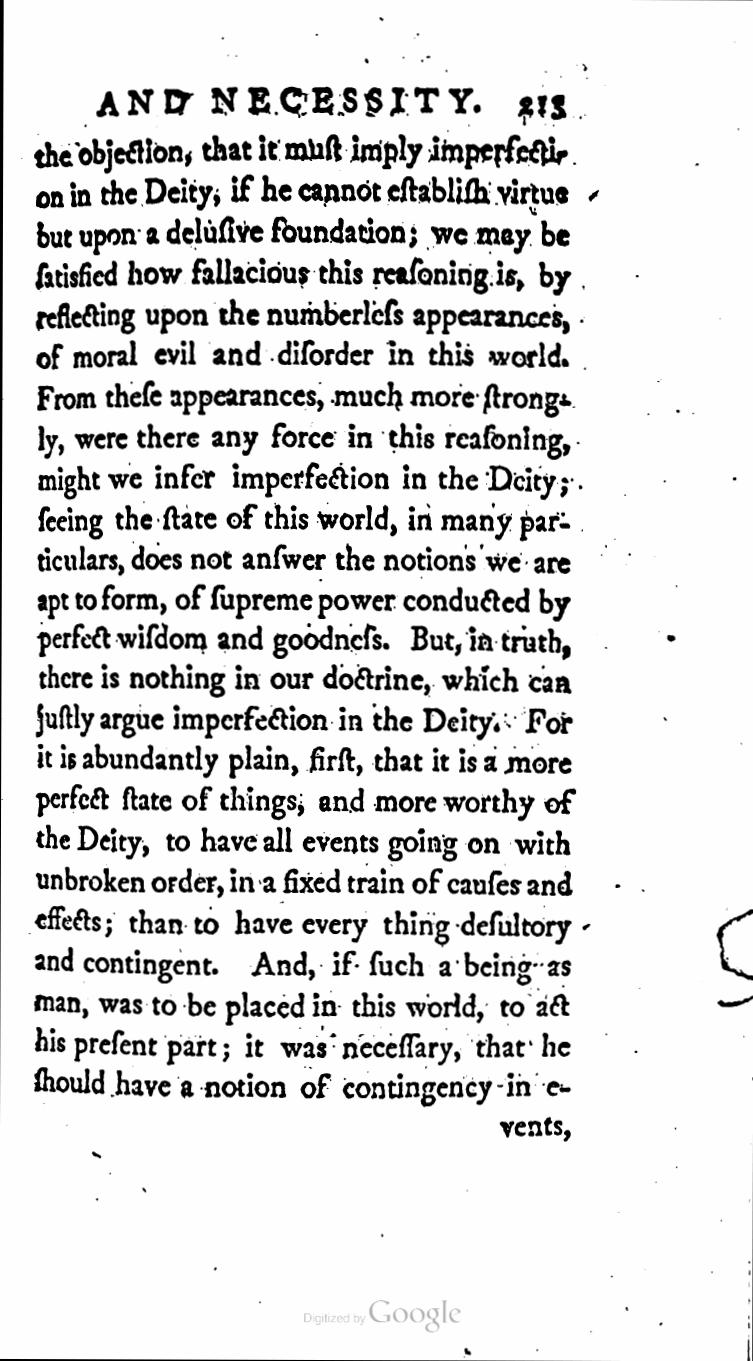catchword: (495, 1112, 576, 1146)
header: (95, 84, 483, 118)
page_num: (517, 92, 570, 123)
top_p: (28, 129, 577, 1104)
